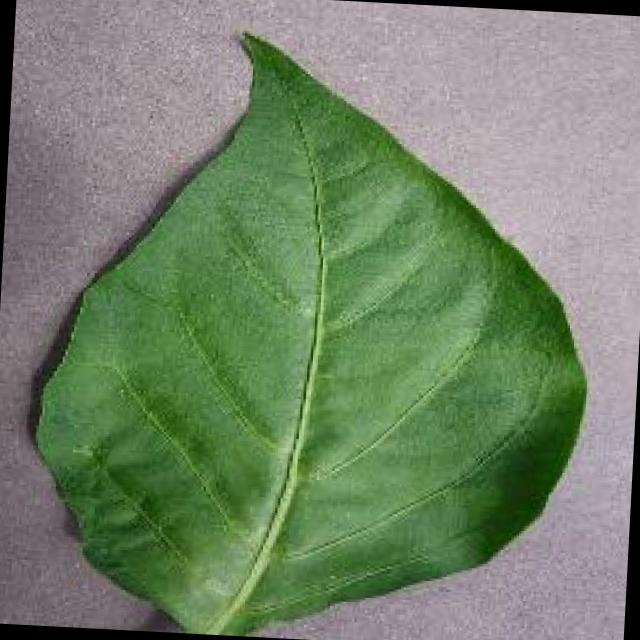Chilli_Healthy: (21, 18, 607, 640)
